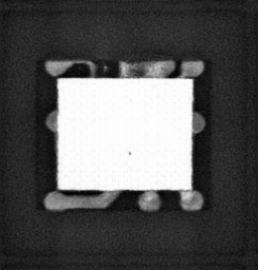DIE_INK: (125, 149, 133, 157)
